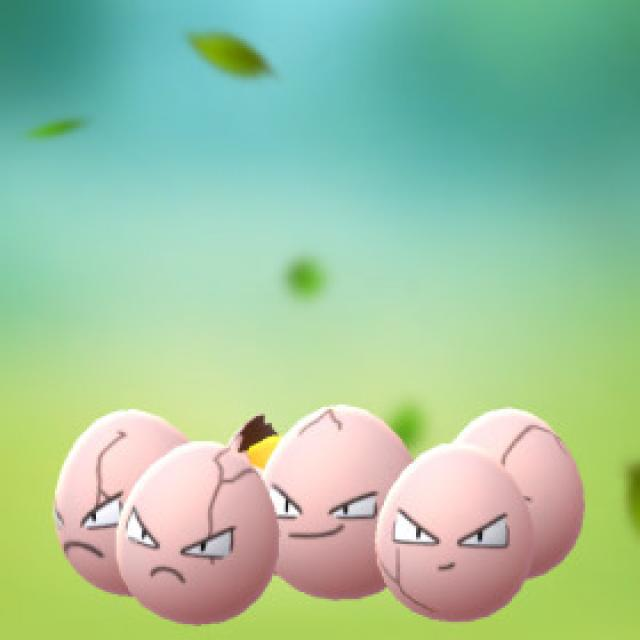Exeggcute: (49, 395, 603, 615)
